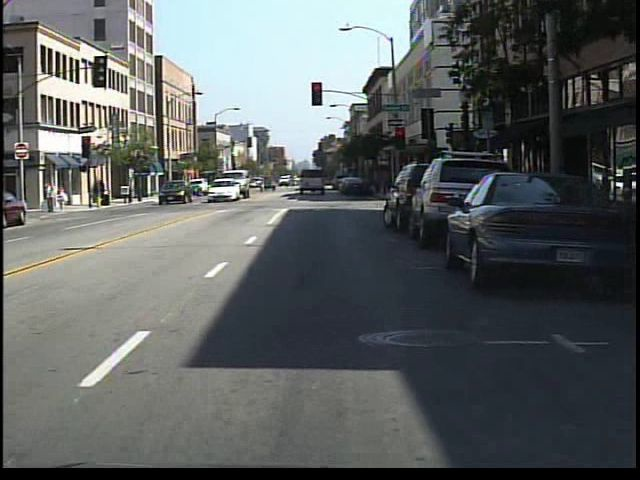person: (42, 180, 56, 217), (55, 183, 71, 212)
